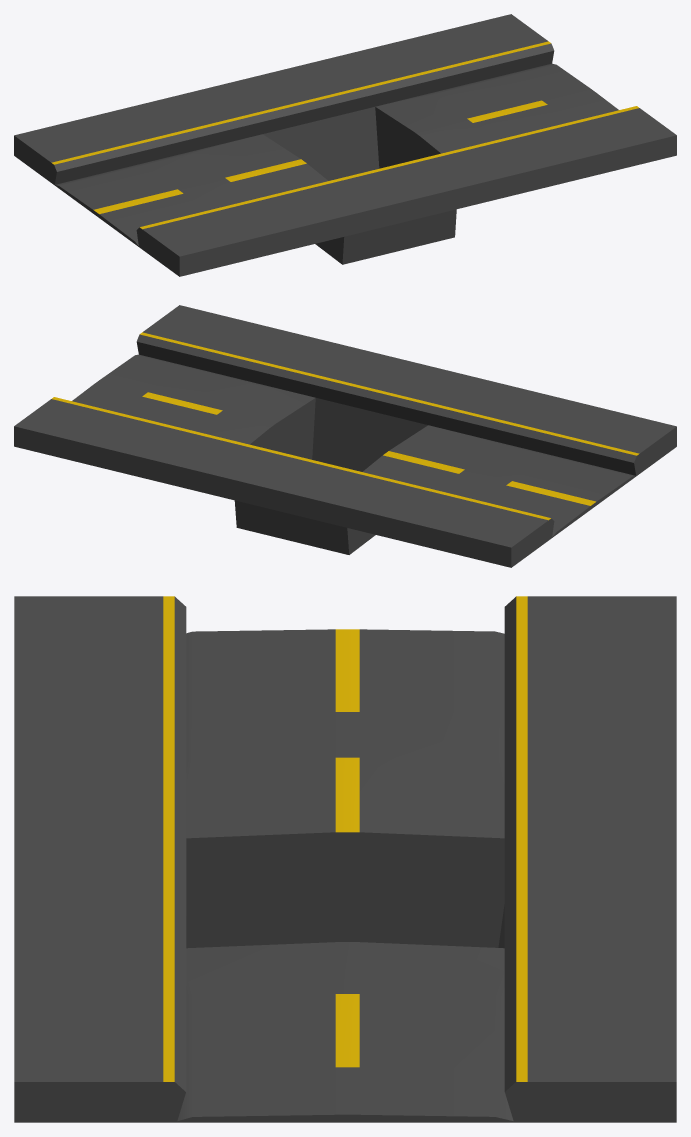
Rendered from Road_pit.fbx.
The picture shows the model from 3 angles, top to bottom: view 1: azimuth 30°, elevation 25°; view 2: azimuth 150°, elevation 25°; view 3: azimuth 270°, elevation 25°; orthographic projection. The views are drawn at different scales.
Visible parts, largest first — view 1: pCube1; view 2: pCube1; view 3: pCube1.
Boxes of the visible parts, box(x1,y1,x2,y2) form: pCube1: box(14, 14, 676, 276); pCube1: box(14, 305, 676, 567); pCube1: box(14, 596, 676, 1122).
Size of the model in its own units: 843 by 149 by 486.
